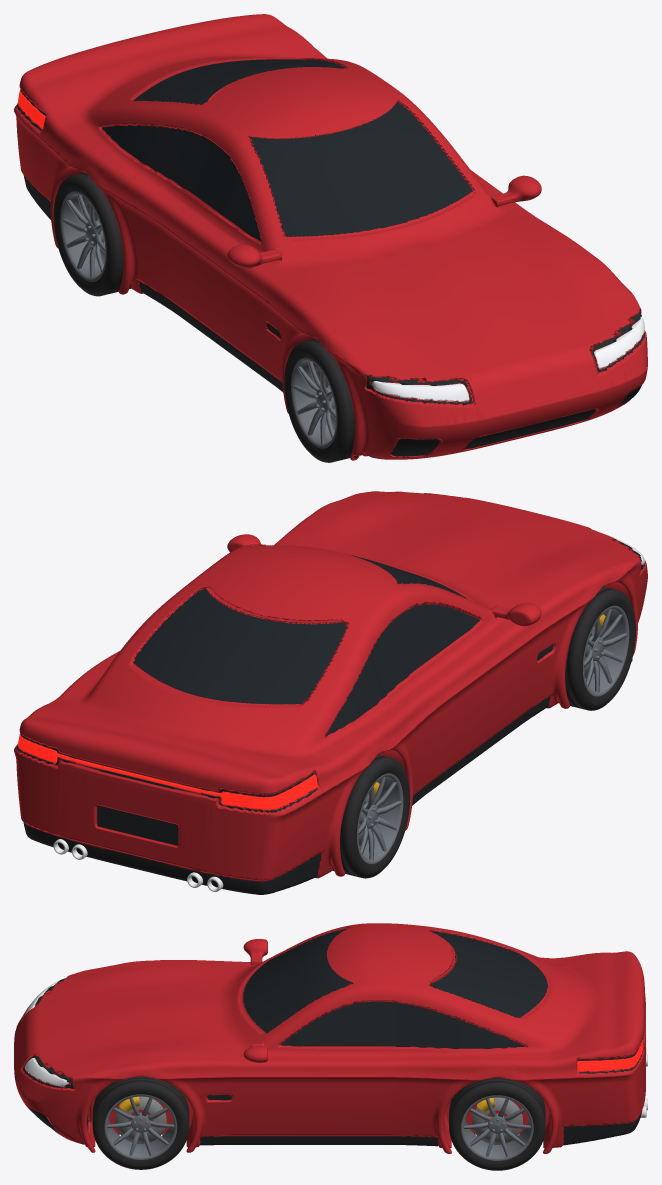
Rendered from halden-aster-gt.fbx.
3 renders of one model, top to bottom at view 1: azimuth 30°, elevation 25°; view 2: azimuth 150°, elevation 25°; view 3: azimuth 270°, elevation 25°, orthographic. The views are drawn at different scales.
Parts seen in each view (by area): view 1: Body_LOD0, Glass_LOD0, Wheel_FR, Wheel_RR, Trim_LOD0, LightsFront_LOD0; view 2: Body_LOD0, Glass_LOD0, Trim_LOD0, Wheel_FR, Wheel_RR, LightsRear_LOD0, Exhaust; view 3: Body_LOD0, Glass_LOD0, Wheel_RL, Wheel_FL, Trim_LOD0, LightsRear_LOD0, LightsFront_LOD0.
Part boxes in pixels (bbox=[...]): Body_LOD0: bbox=[14, 14, 647, 460]; Glass_LOD0: bbox=[102, 59, 472, 241]; Wheel_FR: bbox=[284, 339, 361, 462]; Wheel_RR: bbox=[53, 172, 131, 296]; Trim_LOD0: bbox=[17, 89, 645, 459]; LightsFront_LOD0: bbox=[372, 316, 644, 401]; Body_LOD0: bbox=[14, 491, 647, 881]; Glass_LOD0: bbox=[133, 545, 479, 736]; Trim_LOD0: bbox=[17, 492, 645, 894]; Wheel_FR: bbox=[558, 587, 635, 710]; Wheel_RR: bbox=[332, 754, 410, 878]; LightsRear_LOD0: bbox=[18, 734, 318, 809]; Exhaust: bbox=[53, 839, 223, 891]; Body_LOD0: bbox=[14, 923, 645, 1153]; Glass_LOD0: bbox=[243, 928, 547, 1048]; Wheel_RL: bbox=[449, 1077, 545, 1170]; Wheel_FL: bbox=[92, 1076, 189, 1169]; Trim_LOD0: bbox=[23, 978, 643, 1149]; LightsRear_LOD0: bbox=[577, 1037, 643, 1071]; LightsFront_LOD0: bbox=[25, 981, 68, 1086].
Size of what is drawn, in the model's own units: 1.92 by 1.3 by 4.39.
